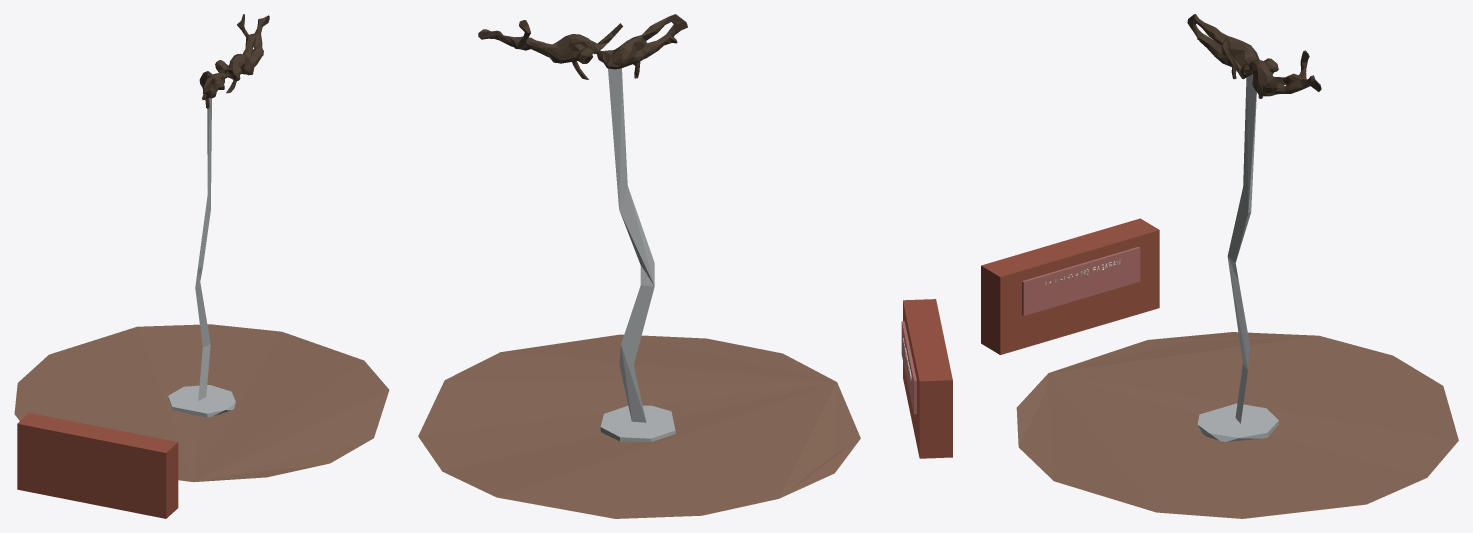
Rendered from spanjemonument.lod1.glb.
3 views of the same model, side by side, from view 1: azimuth 30°, elevation 25°; view 2: azimuth 150°, elevation 25°; view 3: azimuth 270°, elevation 25° (orthographic). The views are drawn at different scales.
Parts seen in each view (by area): view 1: spanjemonument; view 2: spanjemonument; view 3: spanjemonument.
Boxes of the visible parts, left/top/right/bottom form: spanjemonument: left=14, top=14, right=389, bottom=518; spanjemonument: left=418, top=14, right=952, bottom=518; spanjemonument: left=981, top=14, right=1458, bottom=518.
Size of the model in its own units: 7.12 by 6.14 by 6.39.
